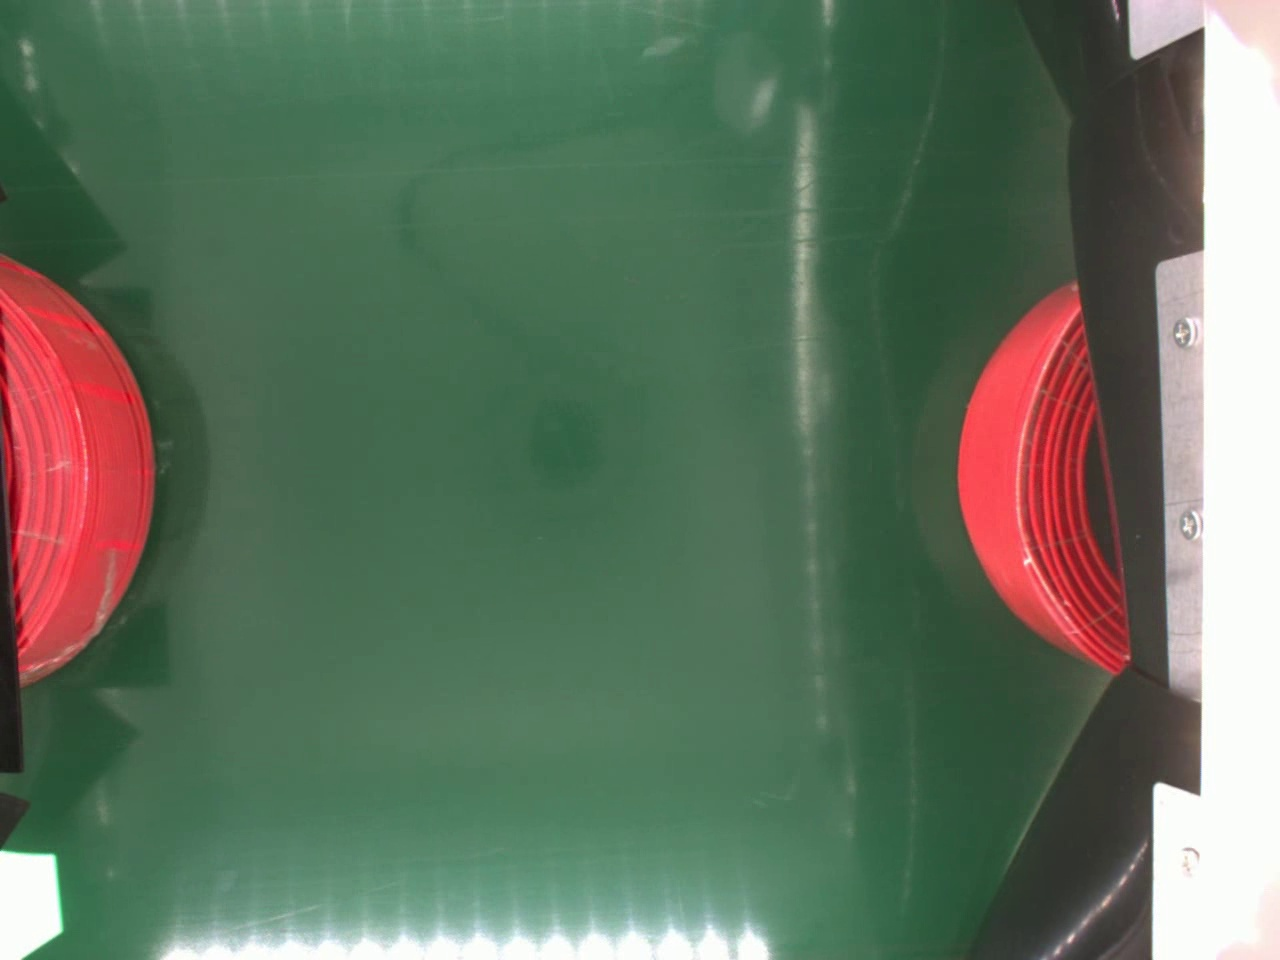red: (954, 274, 1137, 677), (0, 245, 155, 689)
